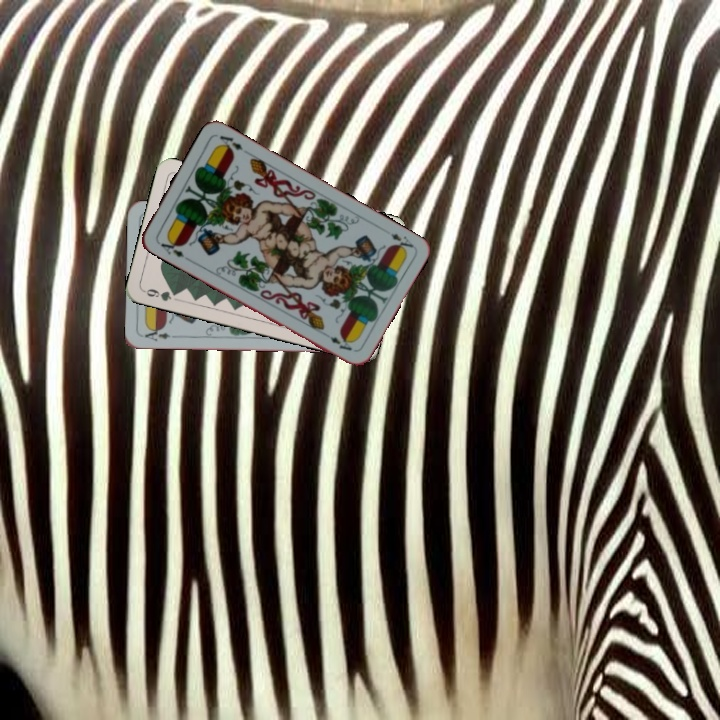EA: (154, 234, 187, 260), (141, 324, 180, 344), (387, 229, 416, 255)
G9: (140, 285, 181, 304)
